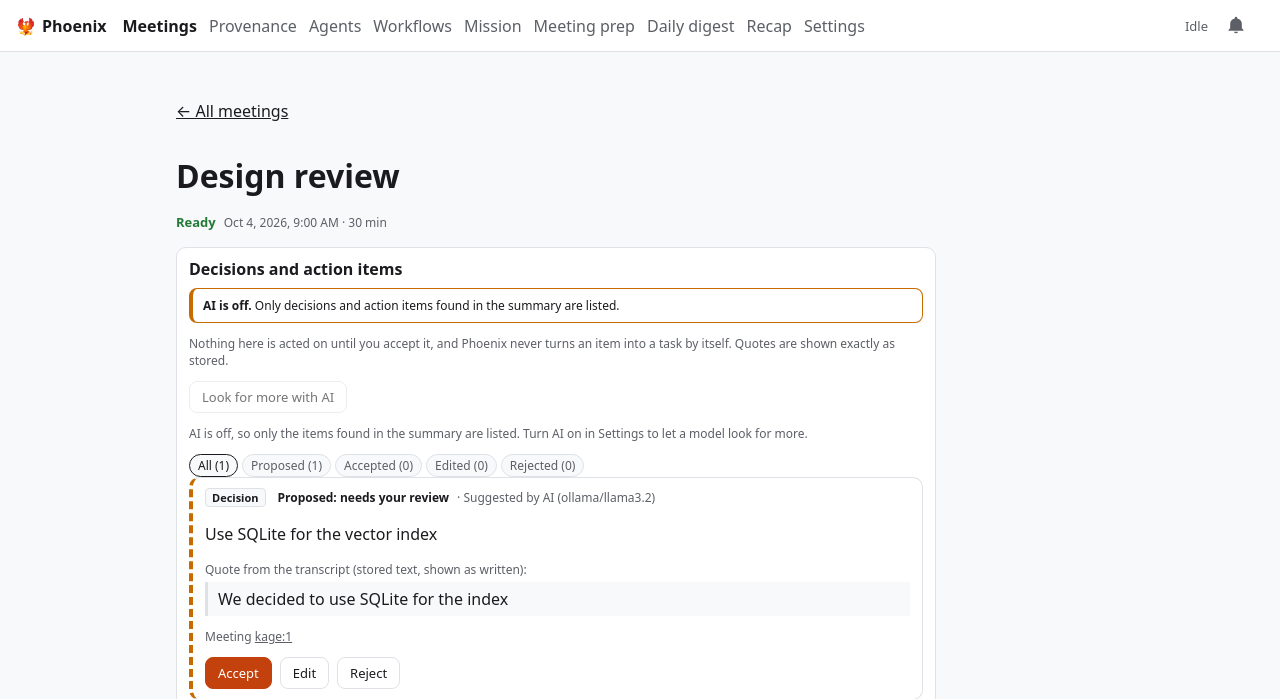
Decisions and action items of a meeting › accepts an item, says so, and keeps keyboard focus on the item
What coordinates should you click on to do the following:
click the button with aria-label "Accept decision"
I would click on:
 (238, 673)
Its box is x1=205 y1=657 x2=272 y2=689.
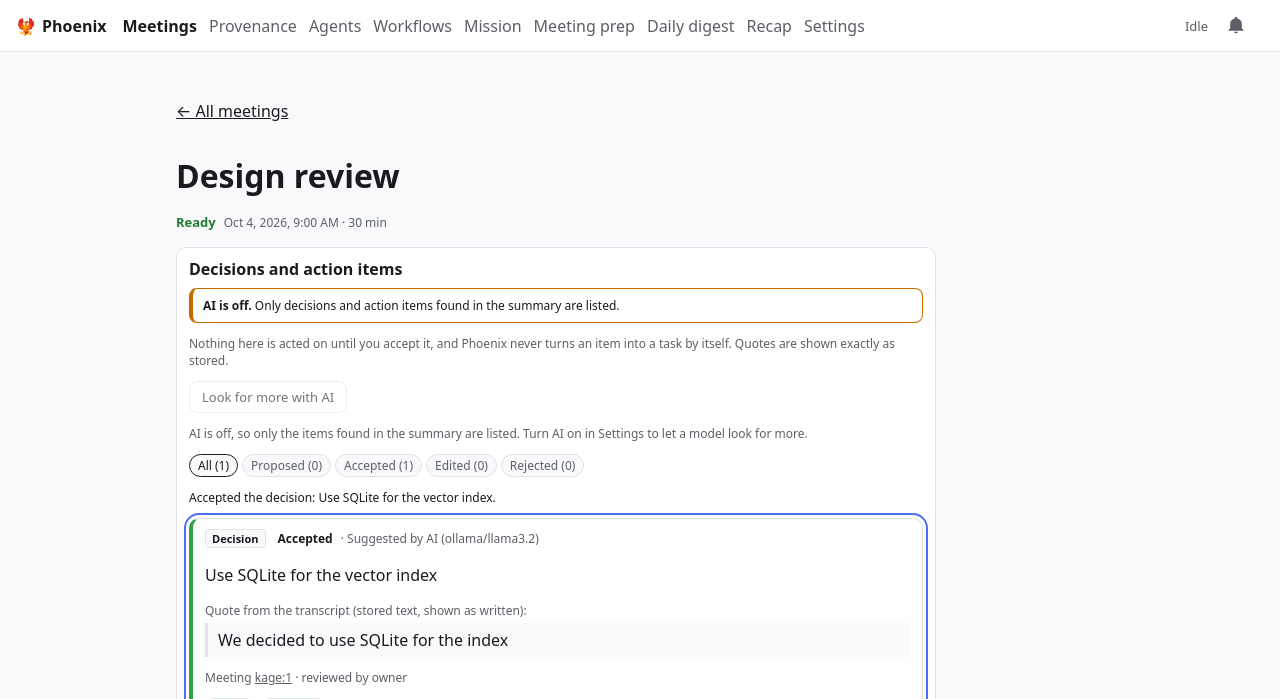
Result: the text "Accepted the decision: Use SQLite for the vector index." is shown at x1=189 y1=489 x2=496 y2=506
